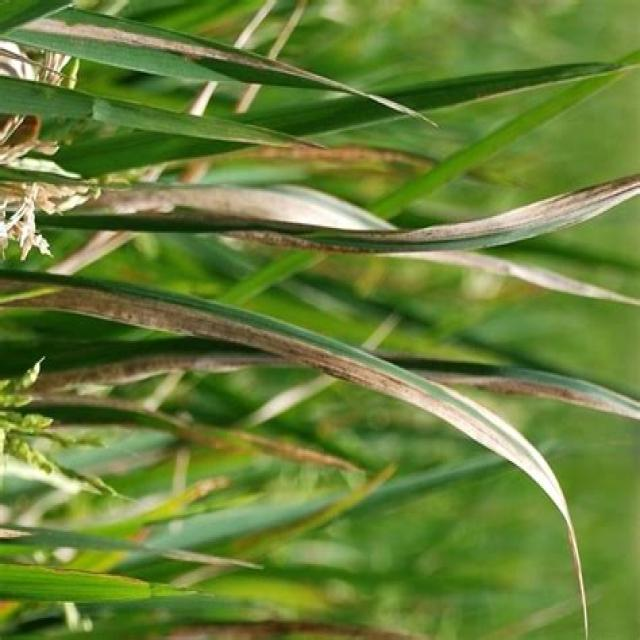blight: (53, 278, 360, 388), (95, 177, 338, 241)
